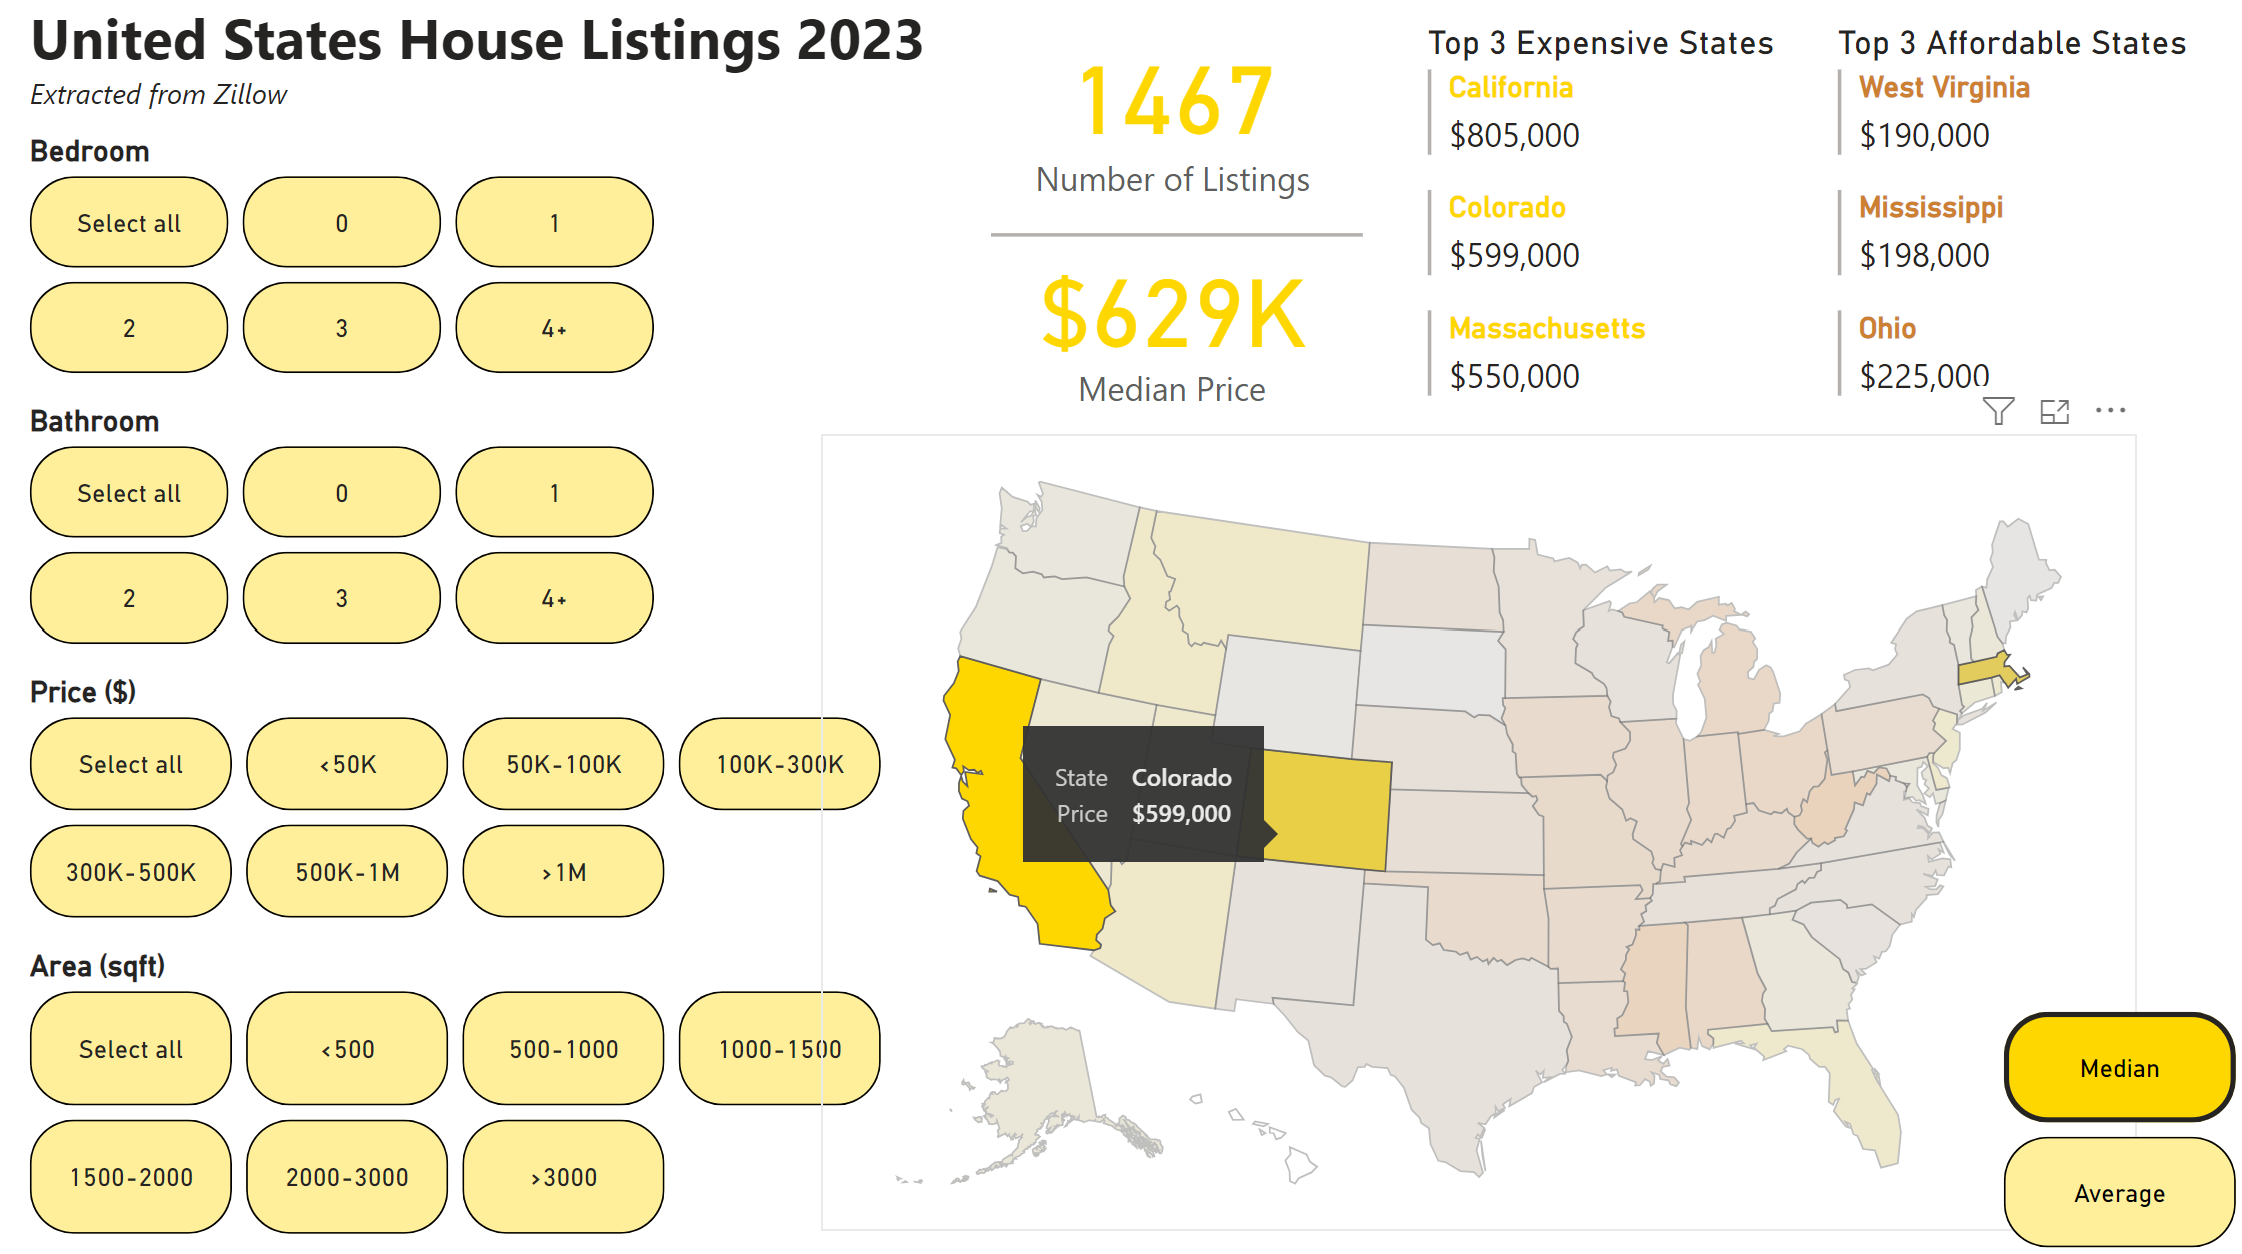

The dashboard page shown, as its layout file describes it:
{"tool":"powerbi","page":{"name":"Main","canvas":[1280,720],"ordinal":0},"visuals":[{"type":"multiRowCard","title":"Top 3 Expensive States","fields":{"Values":["cleaned_df.State Name","cleaned_df.Avg/Med Price"]},"box":[810,18.6,214.3,240],"z":0},{"type":"card","fields":{"Values":["cleaned_df.Avg/Med Price"]},"box":[562.4,123.8,215.7,127.5],"z":0,"group":"g3"},{"type":"multiRowCard","title":"Top 3 Affordable States","fields":{"Values":["cleaned_df.State Name","cleaned_df.Avg/Med Price"]},"box":[1042.9,18.6,214.3,240],"z":1000},{"type":"card","fields":{"Values":["cleaned_df.Avg/Med Title"]},"box":[562.4,212.7,214.8,31.7],"z":1000,"group":"g1"},{"type":"advancedSlicerVisual","title":"Price ($)","fields":{"Values":["cleaned_df.Price Class"]},"box":[14.8,389,494.8,143.3],"z":2000},{"type":"advancedSlicerVisual","fields":{"Values":["cleaned_df.Bedroom Class"]},"box":[14.3,81.4,365.7,142.9],"z":3000},{"type":"advancedSlicerVisual","fields":{"Values":["cleaned_df.Bathroom Class"]},"box":[14.3,235.7,365.7,142.9],"z":4000},{"type":"advancedSlicerVisual","fields":{"Values":["cleaned_df.Area Class"]},"box":[14.8,544.8,494.8,168.3],"z":5000},{"type":"card","fields":{"Values":["CountNonNull(cleaned_df.Price)"]},"box":[562.4,4.3,215.7,127.1],"z":6000,"group":"g2"},{"type":"shapeMap","fields":{"Value":["cleaned_df.Avg/Med Price"],"Category":["cleaned_df.State Name"]},"box":[470,252.9,748.6,452.9],"z":6000},{"type":"textbox","box":[14.3,0,532.9,85.7],"z":7000},{"type":"group","id":"g1","title":"Group 1","box":[562.4,61.1,215.7,190.2],"z":8000,"group":"g2"},{"type":"advancedSlicerVisual","fields":{"Values":["Calculation Methods.Cal Method"]},"box":[1137.1,575.7,142.9,144.3],"z":8000},{"type":"group","id":"g2","title":"Group 3","box":[562.4,4.3,215.7,246.9],"z":9000},{"type":"group","id":"g3","title":"Group 2","box":[562.4,61.1,215.7,190.2],"z":11001,"group":"g1"},{"type":"shape","box":[566.7,61.1,211.4,155.7],"z":11001,"group":"g3"}]}

Visuals, with their boxes in screenshot pixels (x1, y1, x2, y2), scaled from the page's 1280x720 canvas onto the 2242x1254 screenshot:
"Top 3 Expensive States" multiRowCard: x1=1419 y1=32 x2=1794 y2=450
card - cleaned_df.Avg/Med Price: x1=985 y1=216 x2=1363 y2=438
"Top 3 Affordable States" multiRowCard: x1=1827 y1=32 x2=2202 y2=450
card - cleaned_df.Avg/Med Title: x1=985 y1=370 x2=1361 y2=426
"Price ($)" advancedSlicerVisual: x1=26 y1=678 x2=893 y2=927
advancedSlicerVisual - cleaned_df.Bedroom Class: x1=25 y1=142 x2=666 y2=391
advancedSlicerVisual - cleaned_df.Bathroom Class: x1=25 y1=411 x2=666 y2=659
advancedSlicerVisual - cleaned_df.Area Class: x1=26 y1=949 x2=893 y2=1242
card - CountNonNull(cleaned_df.Price): x1=985 y1=7 x2=1363 y2=229
shapeMap - cleaned_df.Avg/Med Price x cleaned_df.State Name: x1=823 y1=440 x2=2134 y2=1229
textbox: x1=25 y1=0 x2=958 y2=149
"Group 1" group: x1=985 y1=106 x2=1363 y2=438
advancedSlicerVisual - Calculation Methods.Cal Method: x1=1992 y1=1003 x2=2241 y2=1253
"Group 3" group: x1=985 y1=7 x2=1363 y2=438
"Group 2" group: x1=985 y1=106 x2=1363 y2=438
shape: x1=993 y1=106 x2=1363 y2=378
